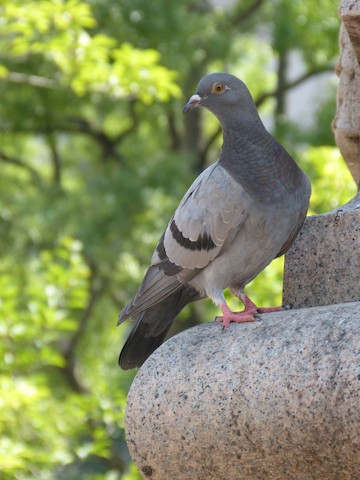pigeon: (110, 69, 317, 377)
